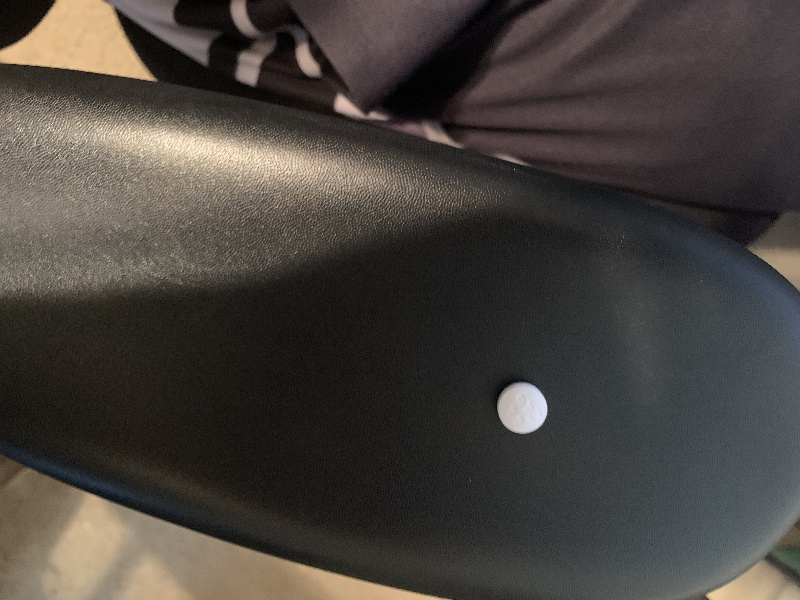Aspirin: (493, 376, 554, 440)
